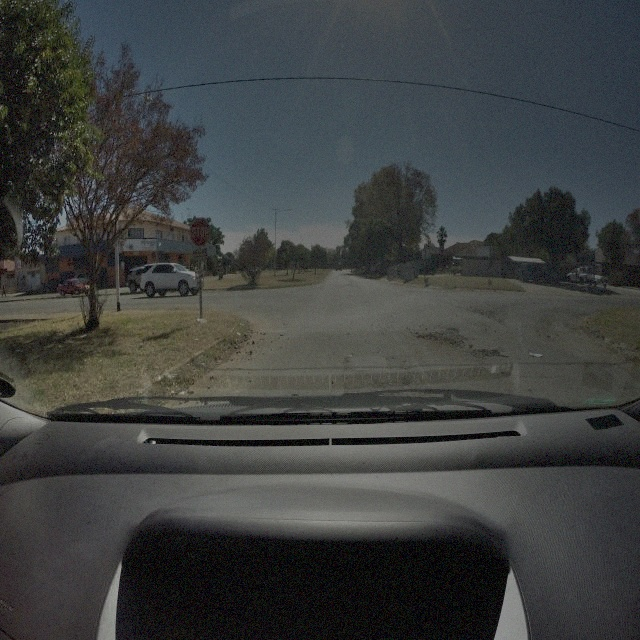pothole: (470, 345, 501, 359)
